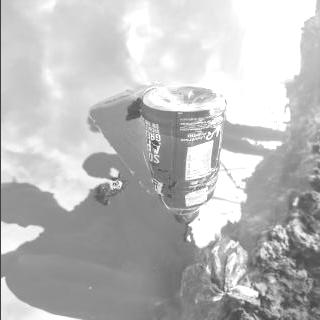bottle: (137, 82, 234, 226)
